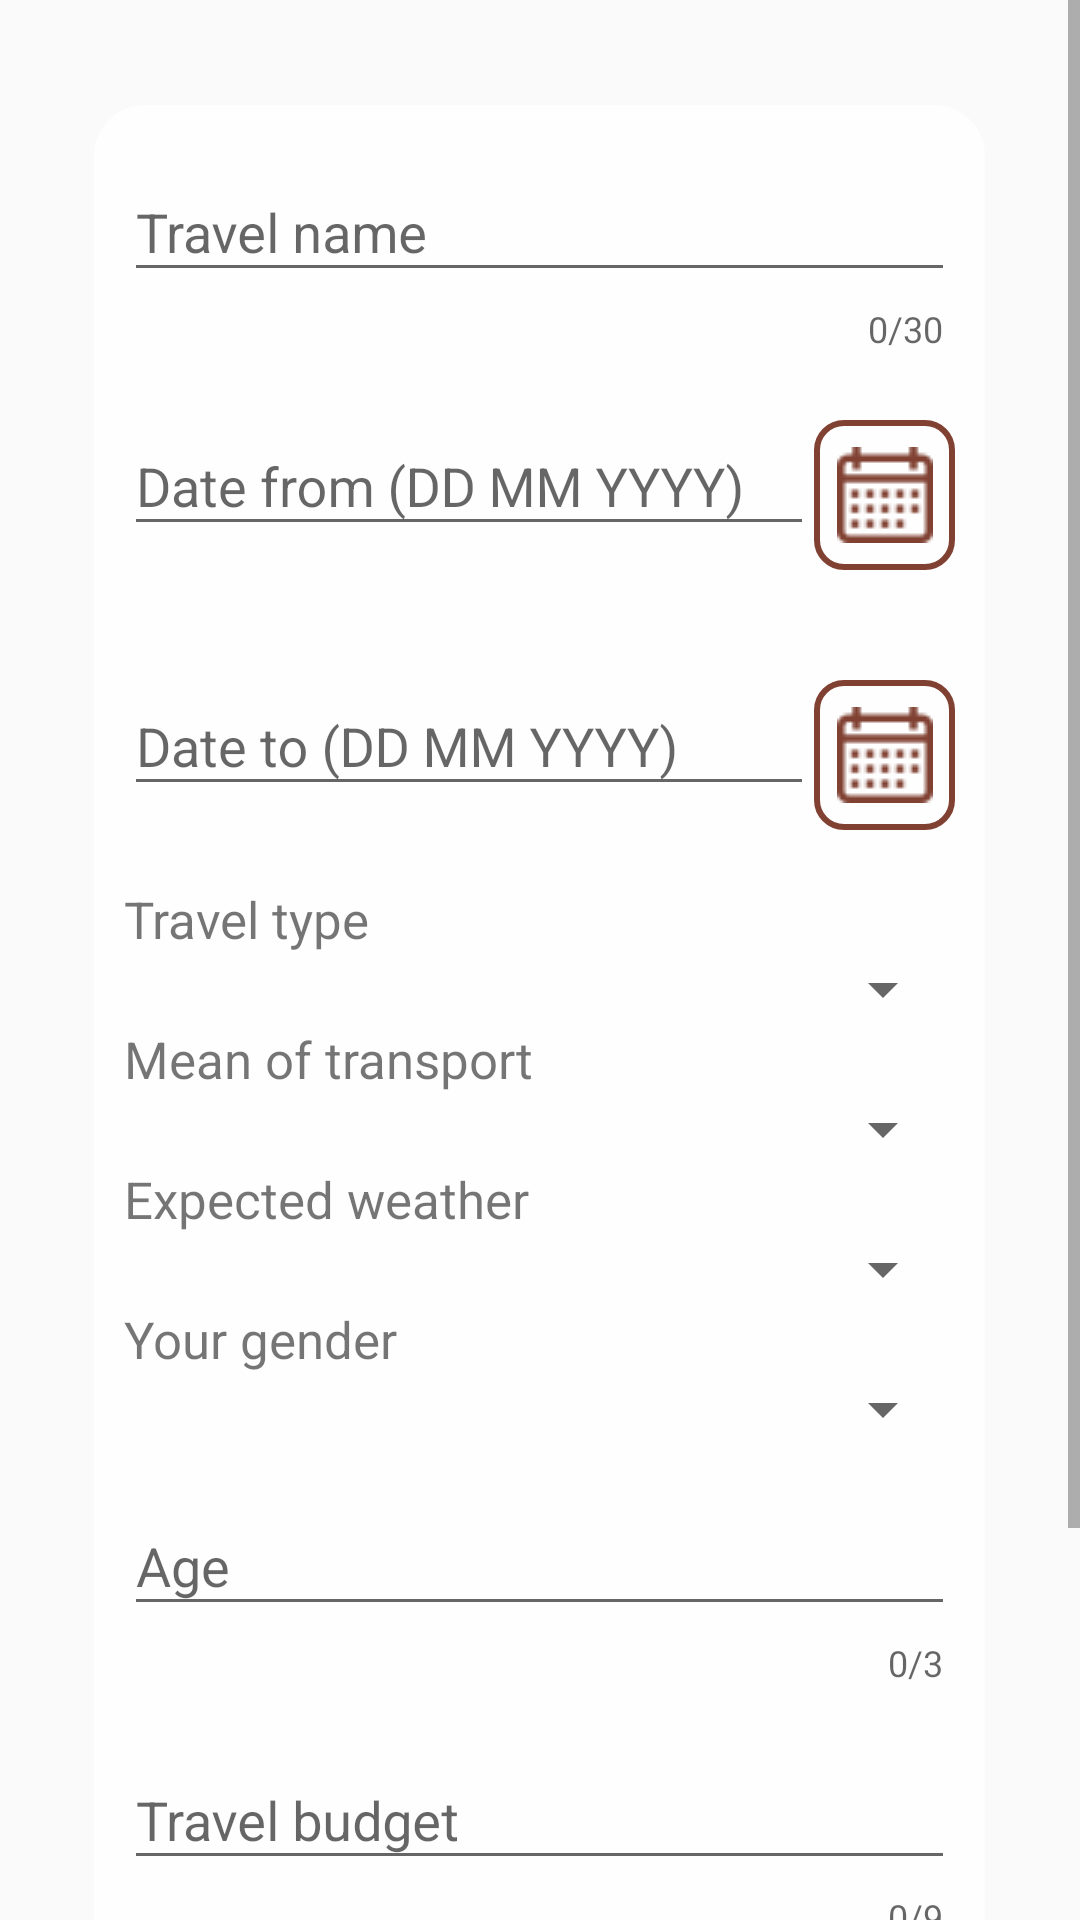

Icons on this 1080 × 1920 Android screen, each with its box as (x1, y1, x2, y2):
calendaricon: (814, 420, 955, 570), (814, 680, 955, 830)
